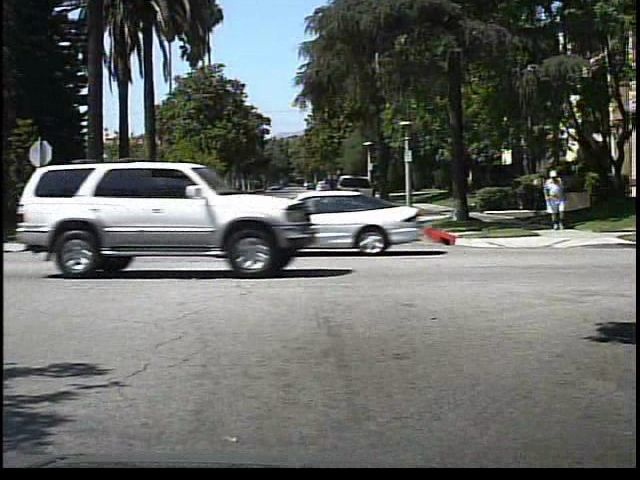person: (539, 169, 569, 234)
